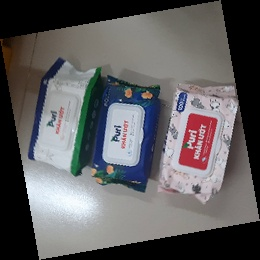Puri Trang: (29, 56, 102, 176)
Puri Xanh: (81, 75, 160, 193)
Puri hong: (157, 80, 242, 204)
